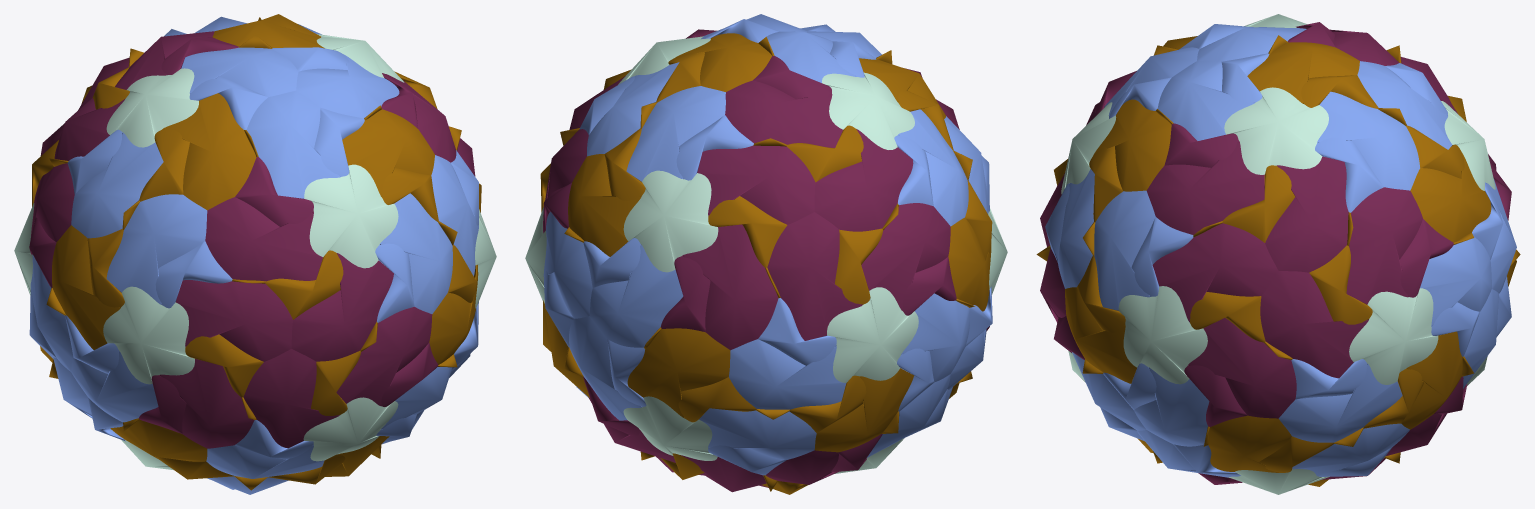
The model's file is kaleidoscope.glb.
The picture shows the model from 3 angles, left to right: view 1: azimuth 30°, elevation 25°; view 2: azimuth 150°, elevation 25°; view 3: azimuth 270°, elevation 25°; orthographic projection.
Visible parts, largest first — view 1: panel_236_swirl3, panel_229_swirl3, panel_006_axis5, panel_190_swirl3, panel_205_swirl3, panel_196_swirl3, panel_220_swirl3, panel_012_axis5, panel_187_swirl3, panel_195_swirl3, panel_198_swirl3, panel_189_swirl3 (+55 smaller); view 2: panel_192_swirl3, panel_194_swirl3, panel_239_swirl3, panel_008_axis5, panel_215_swirl3, panel_226_swirl3, panel_011_axis5, panel_185_swirl3, panel_225_swirl3, panel_200_swirl3, panel_210_swirl3, panel_211_swirl3 (+54 smaller); view 3: panel_201_swirl3, panel_219_swirl3, panel_212_swirl3, panel_206_swirl3, panel_184_swirl3, panel_002_axis5, panel_213_swirl3, panel_010_axis5, panel_009_axis5, panel_214_swirl3, panel_183_swirl3, panel_207_swirl3 (+54 smaller).
Boxes of the visible parts, left/top/right/bottom form: panel_236_swirl3: left=205, top=197, right=322, bottom=281; panel_229_swirl3: left=176, top=280, right=293, bottom=361; panel_006_axis5: left=304, top=164, right=398, bottom=268; panel_190_swirl3: left=106, top=194, right=207, bottom=304; panel_205_swirl3: left=162, top=93, right=256, bottom=210; panel_196_swirl3: left=291, top=253, right=393, bottom=361; panel_220_swirl3: left=246, top=90, right=341, bottom=198; panel_012_axis5: left=103, top=286, right=194, bottom=384; panel_187_swirl3: left=243, top=349, right=339, bottom=448; panel_195_swirl3: left=71, top=132, right=163, bottom=238; panel_198_swirl3: left=159, top=358, right=254, bottom=448; panel_189_swirl3: left=336, top=307, right=432, bottom=406; panel_192_swirl3: left=767, top=212, right=862, bottom=340; panel_194_swirl3: left=682, top=224, right=778, bottom=350; panel_239_swirl3: left=697, top=145, right=815, bottom=224; panel_008_axis5: left=623, top=170, right=718, bottom=272; panel_215_swirl3: left=814, top=129, right=913, bottom=231; panel_226_swirl3: left=729, top=339, right=846, bottom=409; panel_011_axis5: left=827, top=287, right=918, bottom=382; panel_185_swirl3: left=627, top=328, right=730, bottom=418; panel_225_swirl3: left=725, top=80, right=842, bottom=147; panel_200_swirl3: left=589, top=244, right=683, bottom=347; panel_210_swirl3: left=861, top=203, right=950, bottom=310; panel_211_swirl3: left=626, top=86, right=725, bottom=181; panel_201_swirl3: left=1265, top=156, right=1348, bottom=272; panel_219_swirl3: left=1152, top=223, right=1278, bottom=322; panel_212_swirl3: left=1260, top=270, right=1368, bottom=378; panel_206_swirl3: left=1146, top=140, right=1264, bottom=234; panel_184_swirl3: left=1346, top=187, right=1422, bottom=304; panel_002_axis5: left=1224, top=87, right=1328, bottom=174; panel_213_swirl3: left=1187, top=318, right=1296, bottom=418; panel_010_axis5: left=1118, top=286, right=1207, bottom=384; panel_009_axis5: left=1349, top=288, right=1438, bottom=384; panel_214_swirl3: left=1317, top=91, right=1419, bottom=190; panel_183_swirl3: left=1094, top=190, right=1155, bottom=310; panel_207_swirl3: left=1278, top=363, right=1402, bottom=442.
Bounding box in the file's own units: 4.24 × 4.24 × 4.24.
